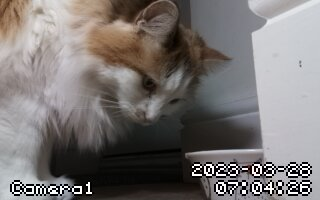clara: (3, 2, 235, 185)
